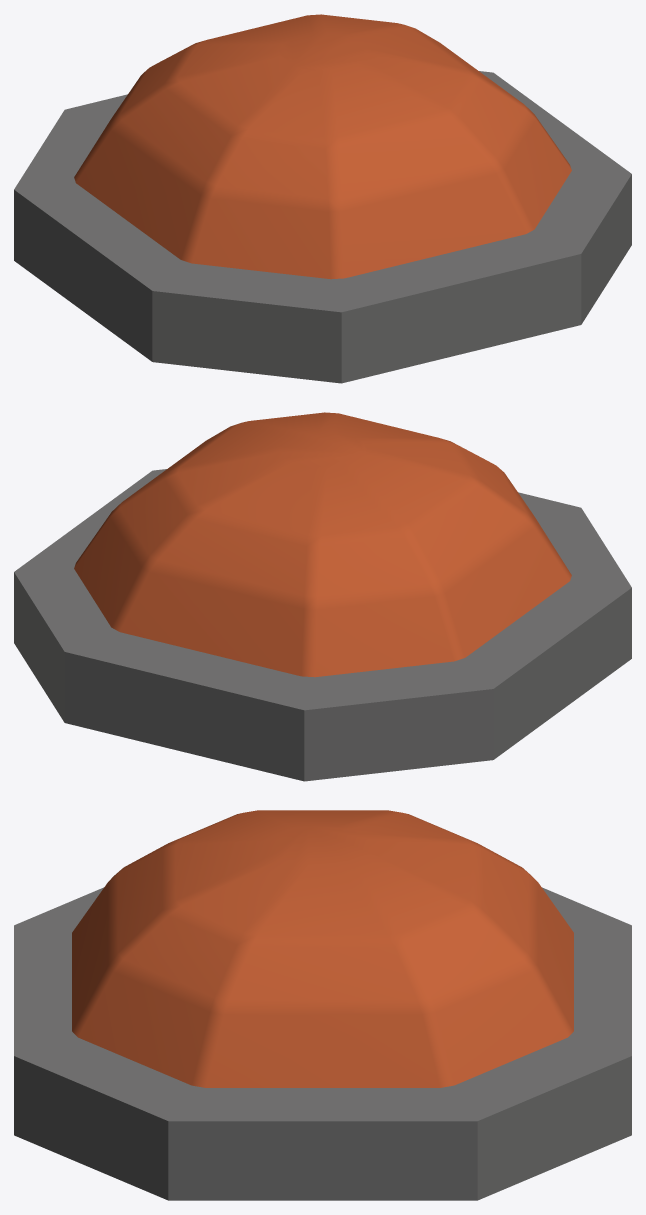
Rendered from Button.fbx.
The picture shows the model from 3 angles, top to bottom: view 1: azimuth 30°, elevation 25°; view 2: azimuth 150°, elevation 25°; view 3: azimuth 270°, elevation 25°; orthographic projection. The views are drawn at different scales.
Visible parts, largest first — view 1: polySurface2, polySurface1; view 2: polySurface2, polySurface1; view 3: polySurface2, polySurface1.
Boxes of the visible parts, x1,y1,x2,y2 form: polySurface2: (74, 14, 571, 279); polySurface1: (14, 71, 631, 383); polySurface2: (74, 412, 571, 677); polySurface1: (14, 469, 631, 781); polySurface2: (72, 810, 573, 1087); polySurface1: (14, 887, 631, 1200).
Bounding box in the file's own units: 3.75 × 1.5 × 3.75.
